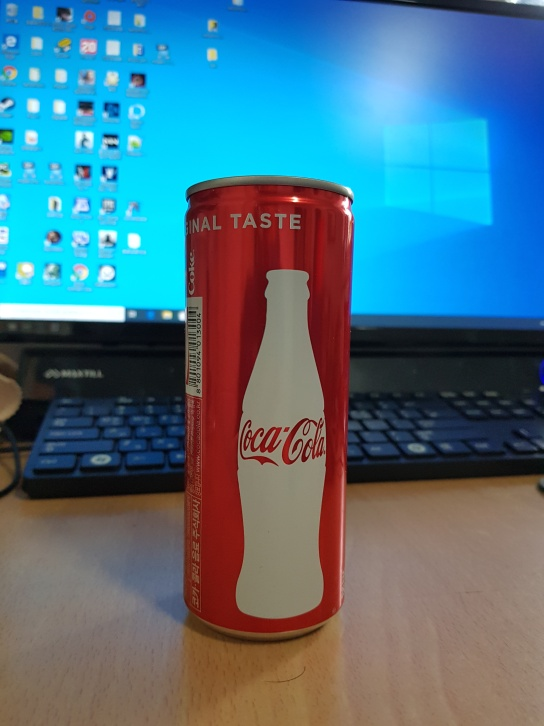Can: (178, 171, 351, 645)
